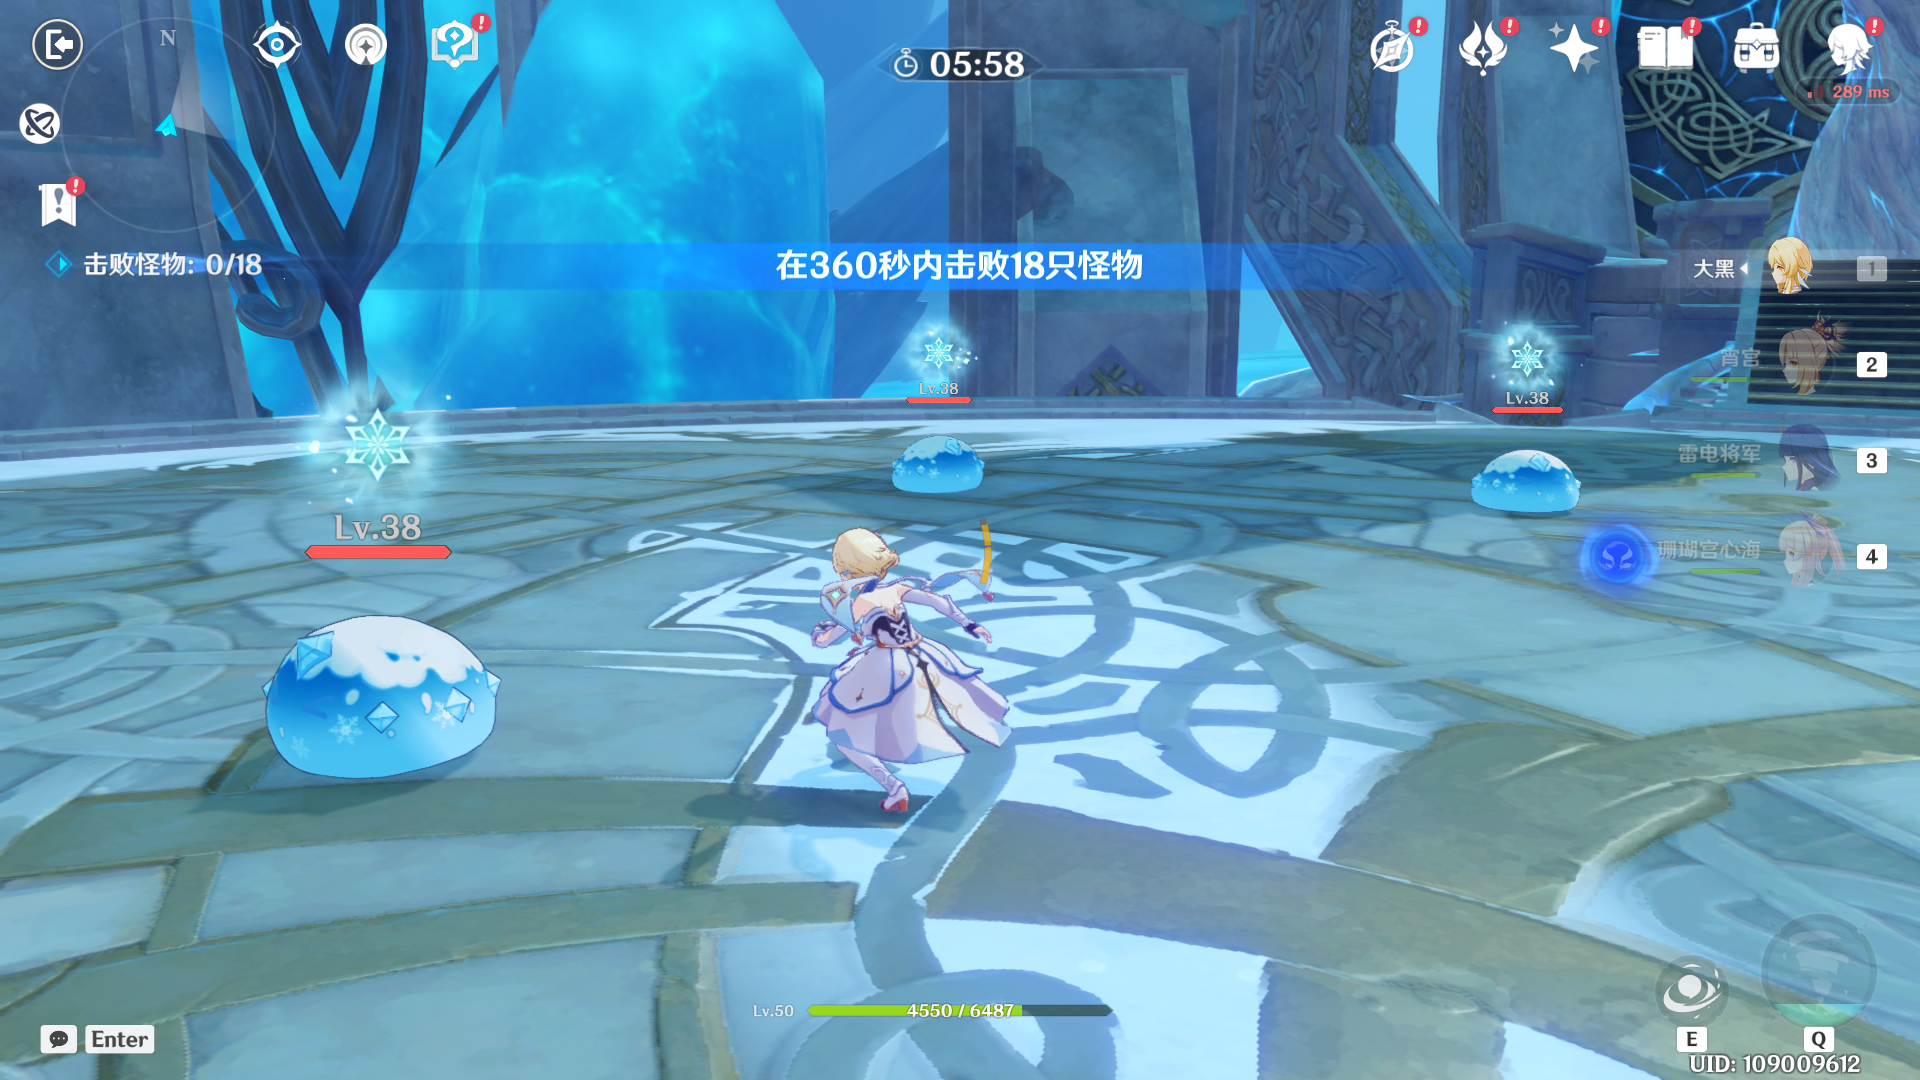character: (750, 502, 1038, 849)
slime: (229, 603, 530, 807), (876, 414, 1001, 520), (1458, 438, 1594, 525)
